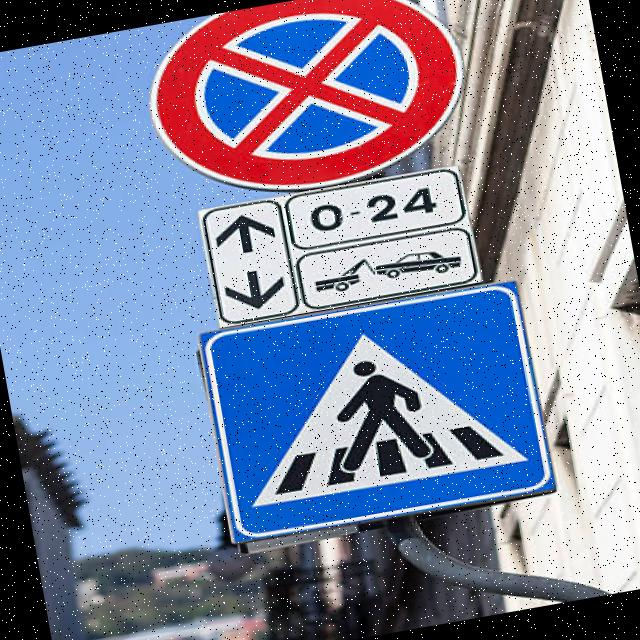crosswalk: (171, 266, 588, 558)
no_parking: (129, 0, 493, 211)
